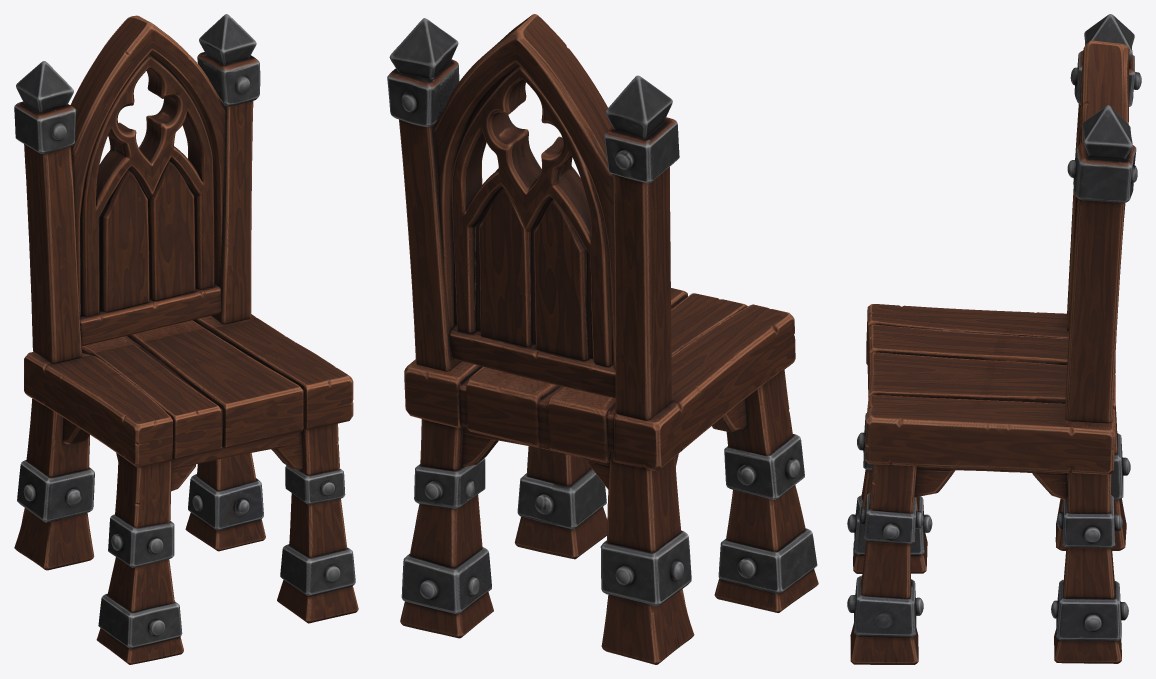
The model's file is IT_Clutter_Chair_Up.fbx.
3 renders of one model, left to right at view 1: azimuth 30°, elevation 25°; view 2: azimuth 150°, elevation 25°; view 3: azimuth 270°, elevation 25°, orthographic. The views are drawn at different scales.
Visible parts, largest first — view 1: Mesh_0; view 2: Mesh_0; view 3: Mesh_0.
Boxes of the visible parts, x1=… form: Mesh_0: x1=14, y1=14, x2=358, y2=664; Mesh_0: x1=387, y1=14, x2=818, y2=664; Mesh_0: x1=847, y1=14, x2=1141, y2=664.
Size of the model in its own units: 89.11 by 190 by 88.64.
1 material, 1 textured.
